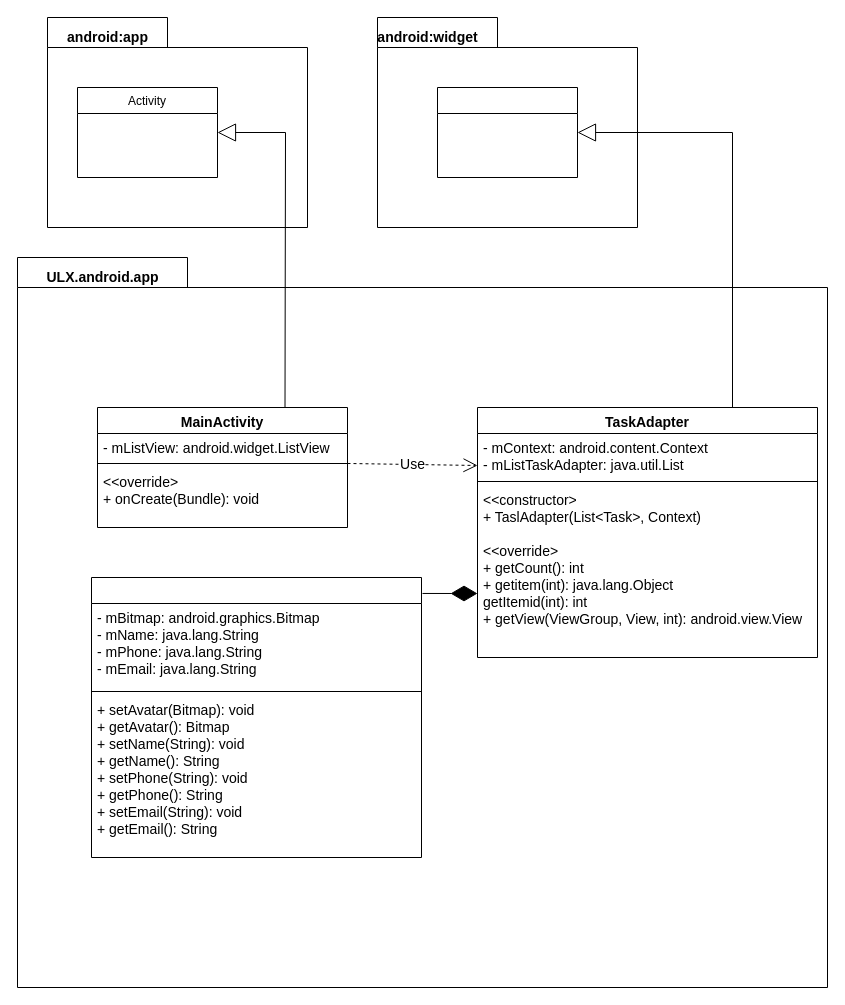
The diagram is 845 pixels wide and 1005 high, and some of its shapes have lost their labels. The shapes that lost their labels are listed below. From the top down, each one's box as (x1, y1, x2, y2) in pixels, then its label:
(436, 86, 578, 178): Base map adapter
(90, 576, 422, 858): StudentBook
